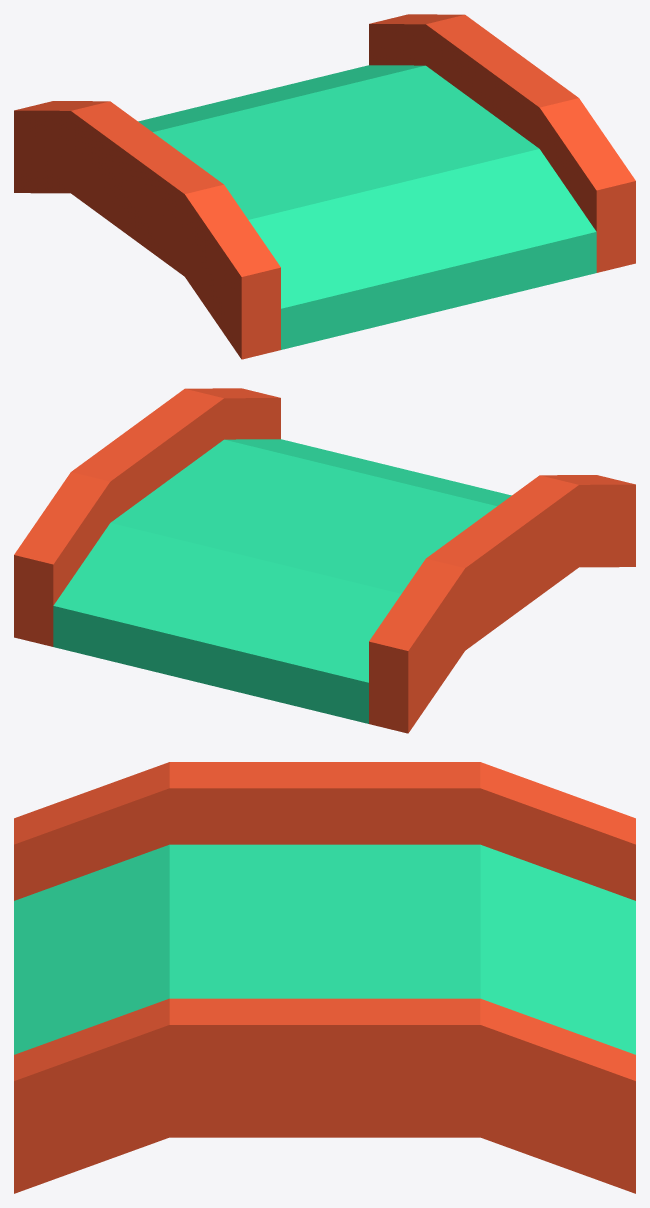
File: track_3.fbx
The picture shows the model from 3 angles, top to bottom: view 1: azimuth 30°, elevation 25°; view 2: azimuth 150°, elevation 25°; view 3: azimuth 270°, elevation 25°; orthographic projection. The views are drawn at different scales.
Visible parts, largest first — view 1: bridge_12; view 2: bridge_12; view 3: bridge_12.
Boxes of the visible parts, left/top/right/bottom form: bridge_12: left=14, top=14, right=635, bottom=359; bridge_12: left=14, top=388, right=635, bottom=733; bridge_12: left=14, top=762, right=635, bottom=1193.
Size of the model in its own units: 10 by 3 by 10.
